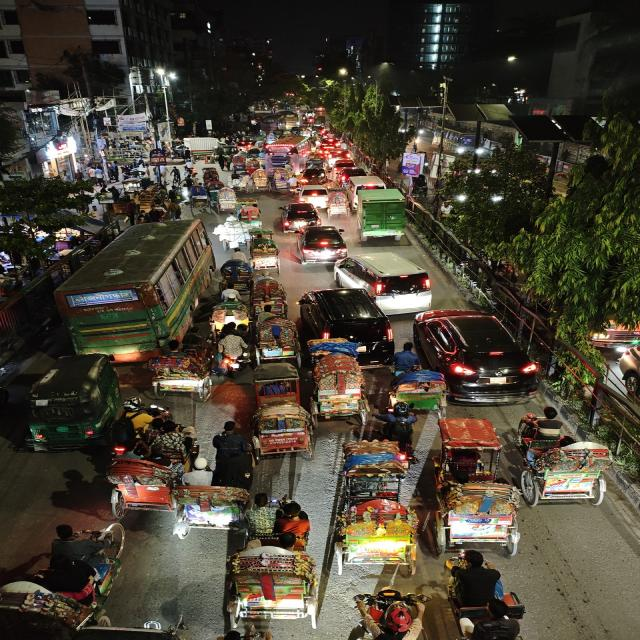bus: (52, 218, 214, 358), (262, 139, 303, 172)
car: (411, 306, 544, 402), (331, 249, 438, 307), (297, 287, 396, 349), (290, 223, 350, 266), (276, 201, 322, 231), (336, 169, 385, 190), (296, 185, 331, 208), (331, 160, 358, 173)
cng: (22, 352, 122, 452)
motorcycle: (213, 326, 250, 376)
pedestrian: (441, 548, 520, 638), (347, 586, 427, 640)
rickshaw: (1, 518, 134, 638), (226, 511, 330, 640), (334, 457, 422, 578), (512, 405, 611, 510), (433, 450, 522, 558), (166, 456, 244, 540), (250, 363, 314, 462), (103, 440, 184, 518), (310, 348, 371, 430), (144, 343, 216, 402), (385, 360, 446, 412), (255, 314, 301, 366), (248, 236, 283, 273), (220, 257, 252, 289), (237, 200, 264, 228), (213, 184, 239, 212), (247, 168, 274, 193), (326, 189, 349, 217), (269, 173, 297, 195), (200, 167, 223, 189), (228, 172, 248, 192), (242, 156, 264, 172), (230, 155, 249, 173)
truck: (354, 187, 411, 243)
